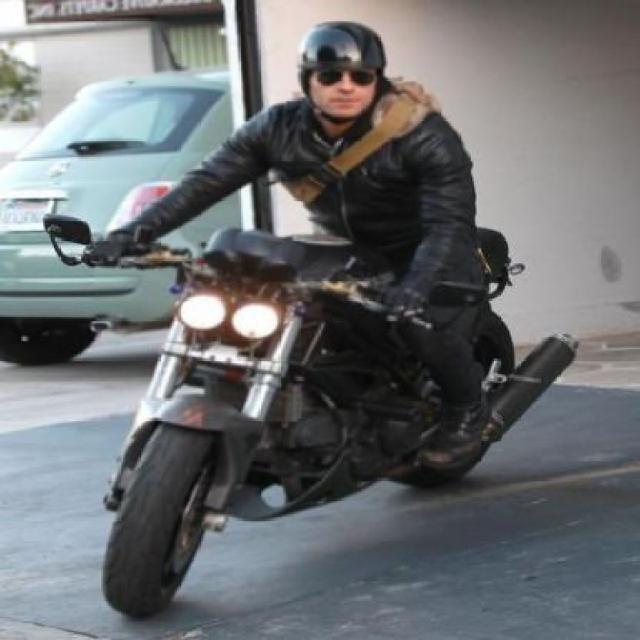helmet: (276, 12, 410, 130)
motorcycle: (67, 6, 564, 627)
